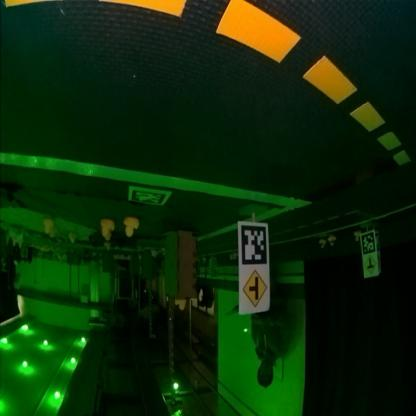Duckie: (124, 218, 139, 238), (43, 218, 56, 235), (102, 221, 114, 237), (176, 301, 187, 311), (70, 233, 78, 245), (329, 237, 336, 247), (318, 240, 326, 248), (354, 233, 360, 240)
Intersection sign: (243, 272, 267, 310), (364, 256, 378, 275)
QR code: (242, 226, 268, 265), (130, 186, 172, 207), (362, 232, 376, 254)
